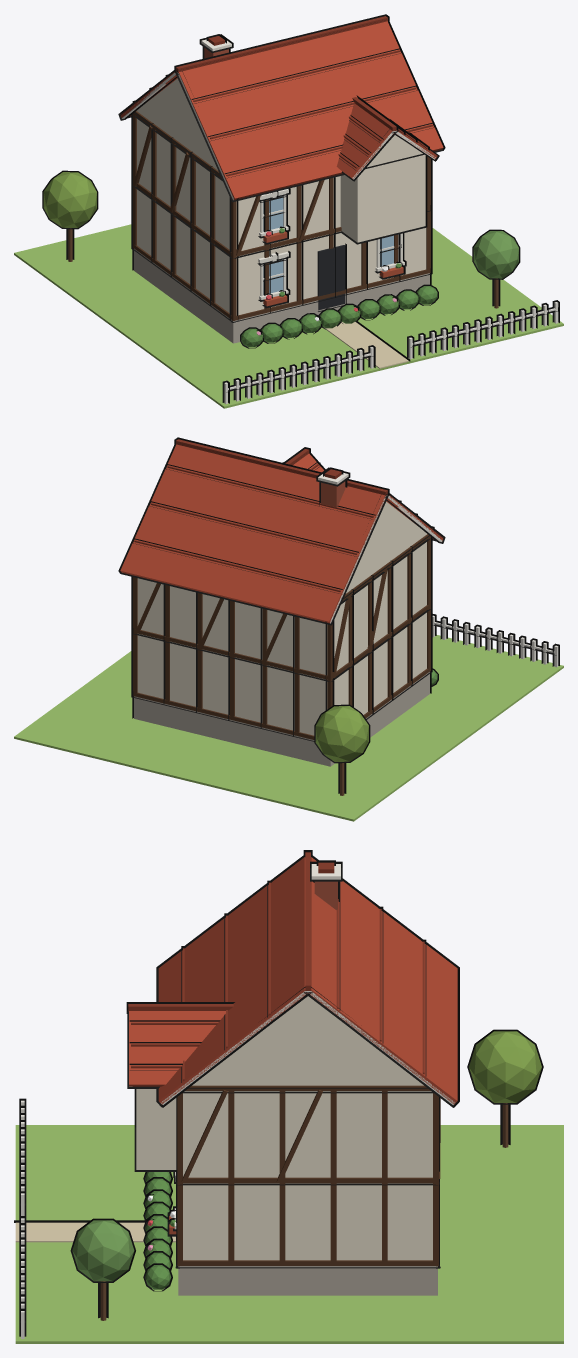
File: Konut_konak_1.fbx
3 views of the same model, one above another, from view 1: azimuth 30°, elevation 25°; view 2: azimuth 150°, elevation 25°; view 3: azimuth 270°, elevation 25° (orthographic). The views are drawn at different scales.
Visible parts, largest first — view 1: Konut_konak_1; view 2: Konut_konak_1; view 3: Konut_konak_1.
Part boxes in pixels (left/top/right/bottom): Konut_konak_1: left=14, top=14, right=563, bottom=408; Konut_konak_1: left=14, top=437, right=563, bottom=821; Konut_konak_1: left=14, top=850, right=563, bottom=1343.
Size of the model in its own units: 14 by 10.09 by 15.05.
